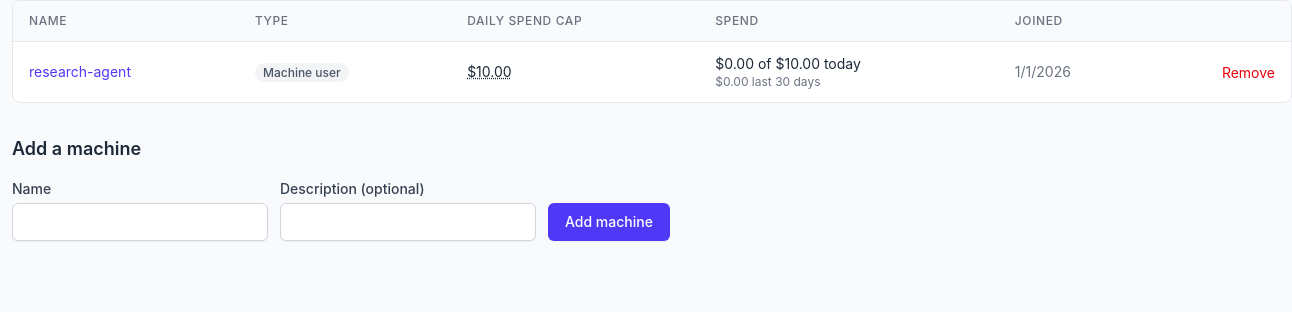
MachinesManager › adding a machine user › shows the route's error and keeps the form when adding fails
In the field labelled "Name": (140, 222) [12, 203, 268, 241], type "bot"
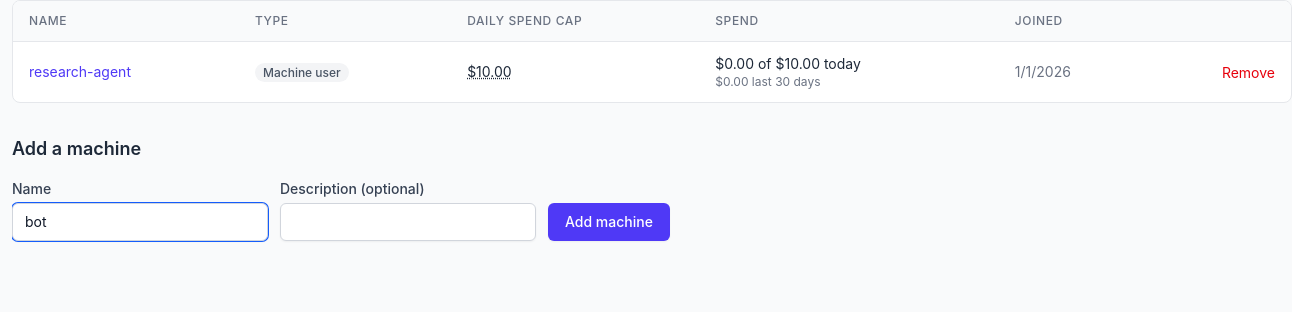
Click the button "Add machine": (609, 222) [548, 203, 670, 241]
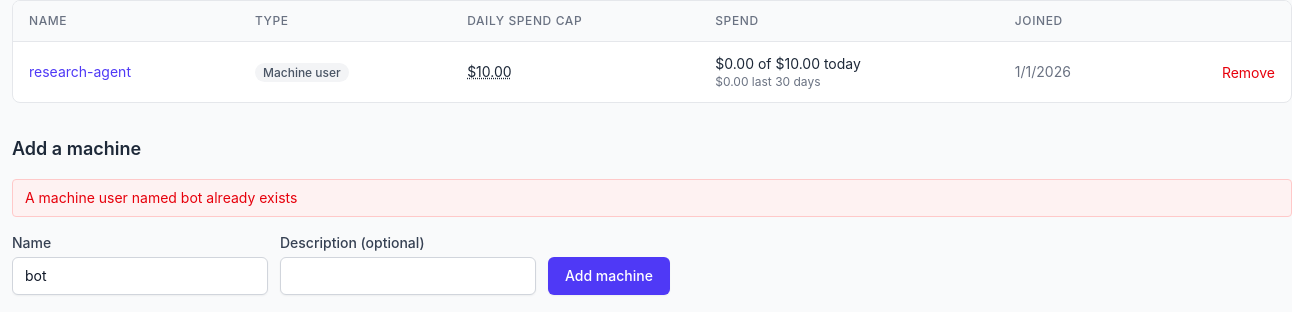
Now the message reads "A machine user named bot already exists", box [25, 189, 297, 206]
